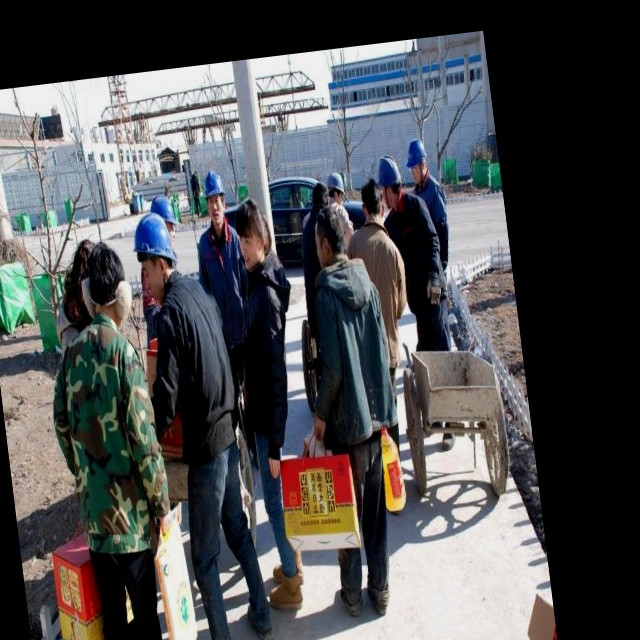Con_Casco: (375, 153, 404, 213), (202, 169, 229, 226)
Sin_Casco_Mascarrilla: (233, 197, 270, 270), (311, 205, 346, 262), (358, 177, 385, 222)
